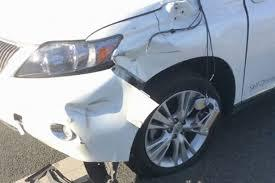fender-dent: (124, 6, 241, 64)
front-bumper-dent: (30, 79, 168, 158)
